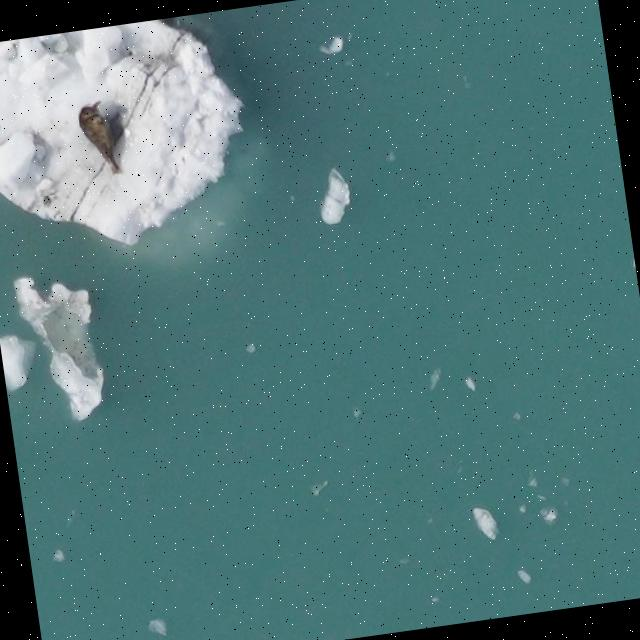seal: (78, 104, 123, 174)
